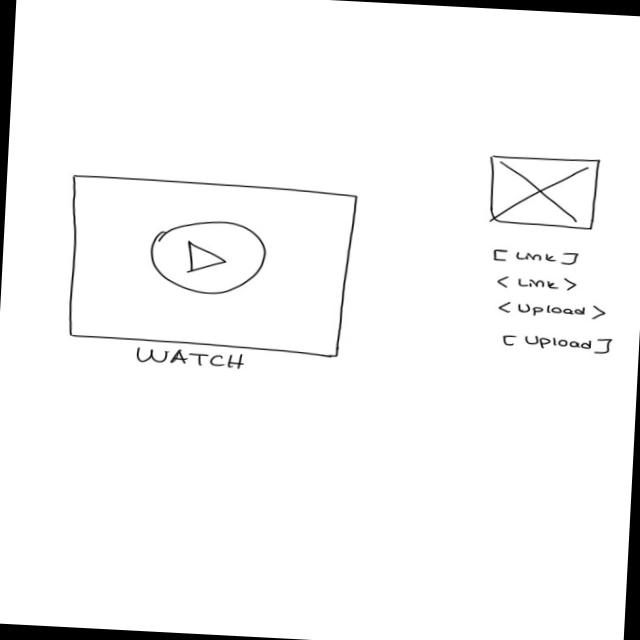image: (486, 154, 604, 232)
label: (134, 346, 248, 372)
link: (500, 331, 618, 357), (498, 299, 610, 324), (493, 247, 585, 268), (497, 274, 581, 295)
